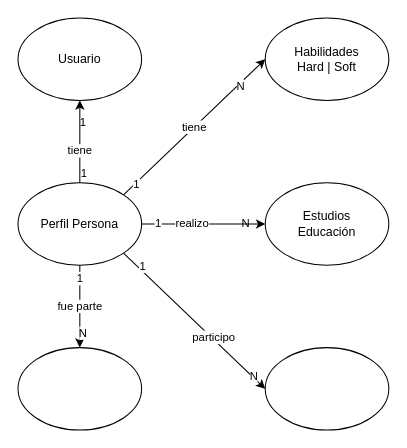
Image size: 407x448. Some labels were removed from this diagram. Each missing label, with the box of its shape:
Proyectos: (17, 347, 142, 430)
Trabajos Exp Laboral: (264, 347, 389, 430)
